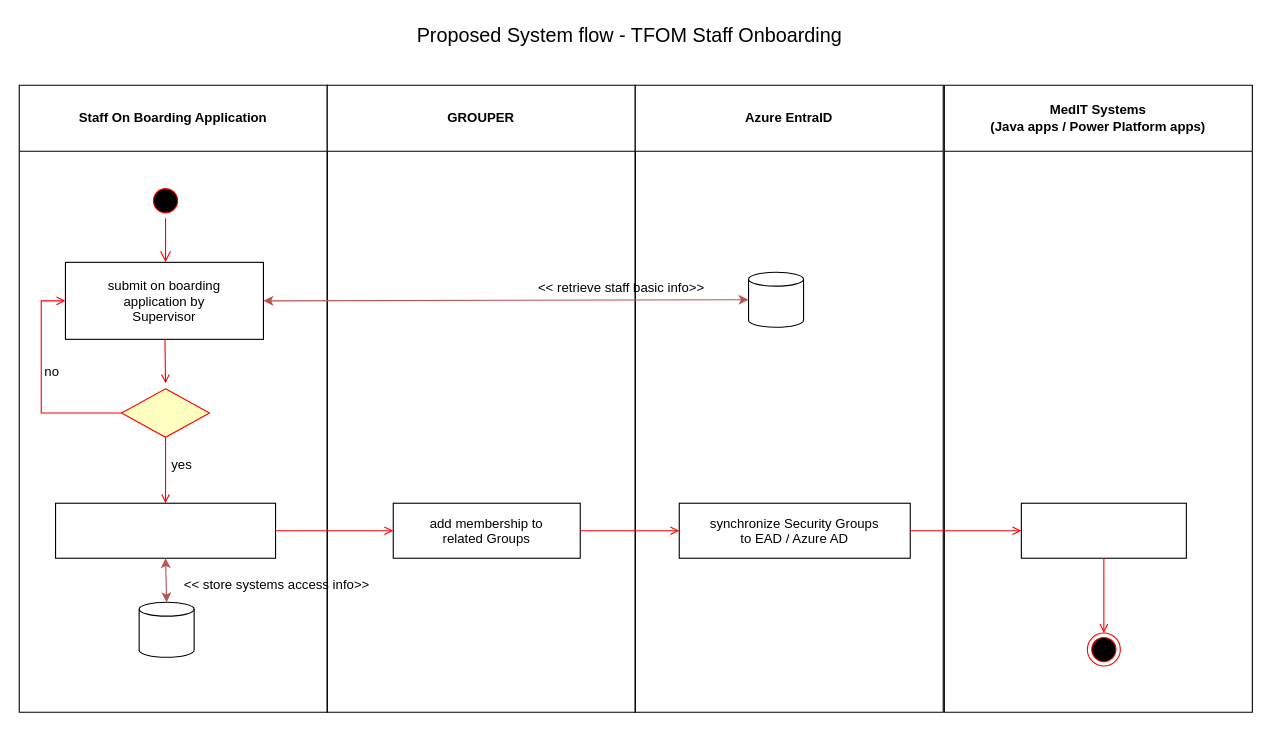
Some shapes in this 1272 by 732 pixel diagram are drawn without their labels. Each missing label, with the centre of its shape:
"approved by Head" goes at (165,412).
"grant access to on boarding staff to access systems" goes at (1103,530).
"send system groups requests to GROUPERS" goes at (165,530).
